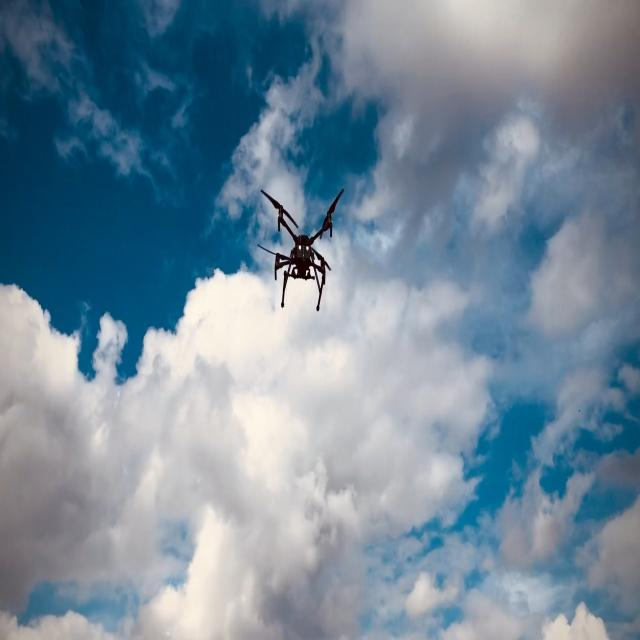drone: (257, 186, 344, 311)
